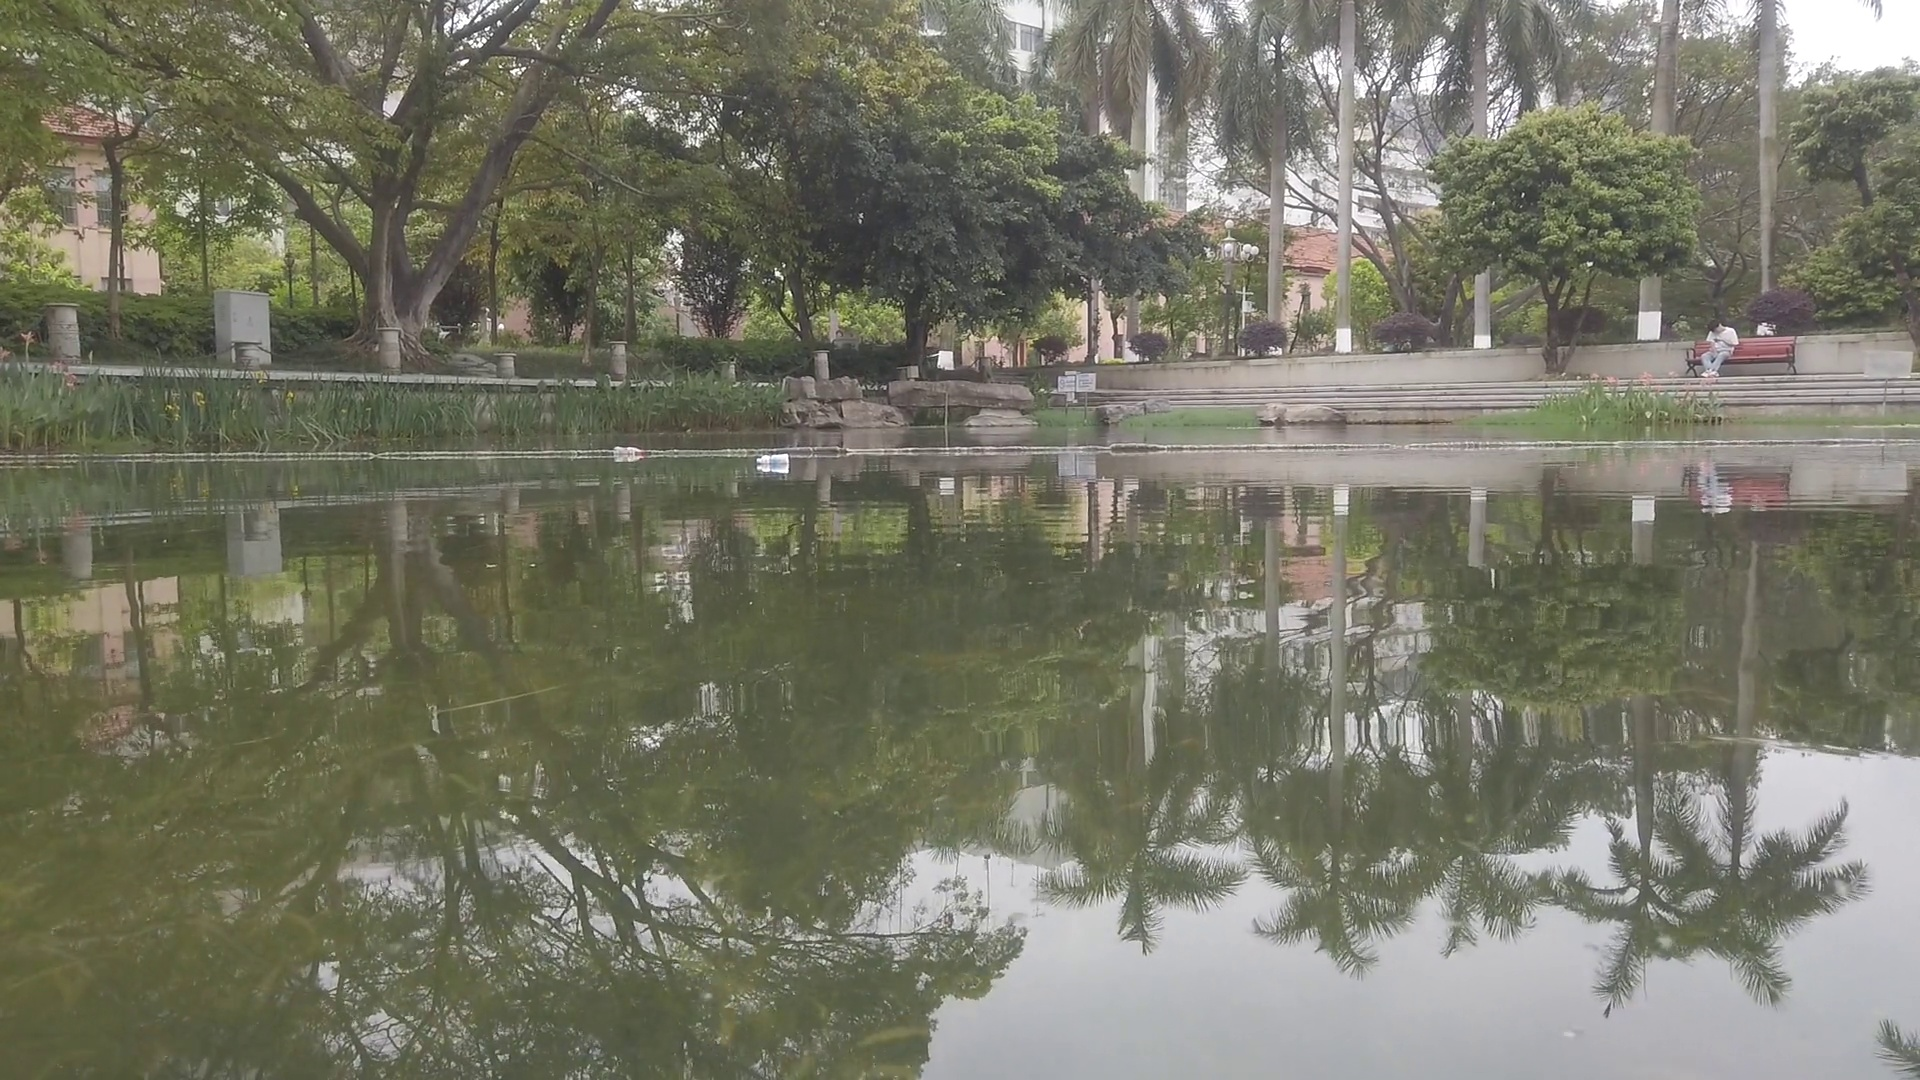bottle: (615, 444, 649, 456), (756, 455, 793, 464)
